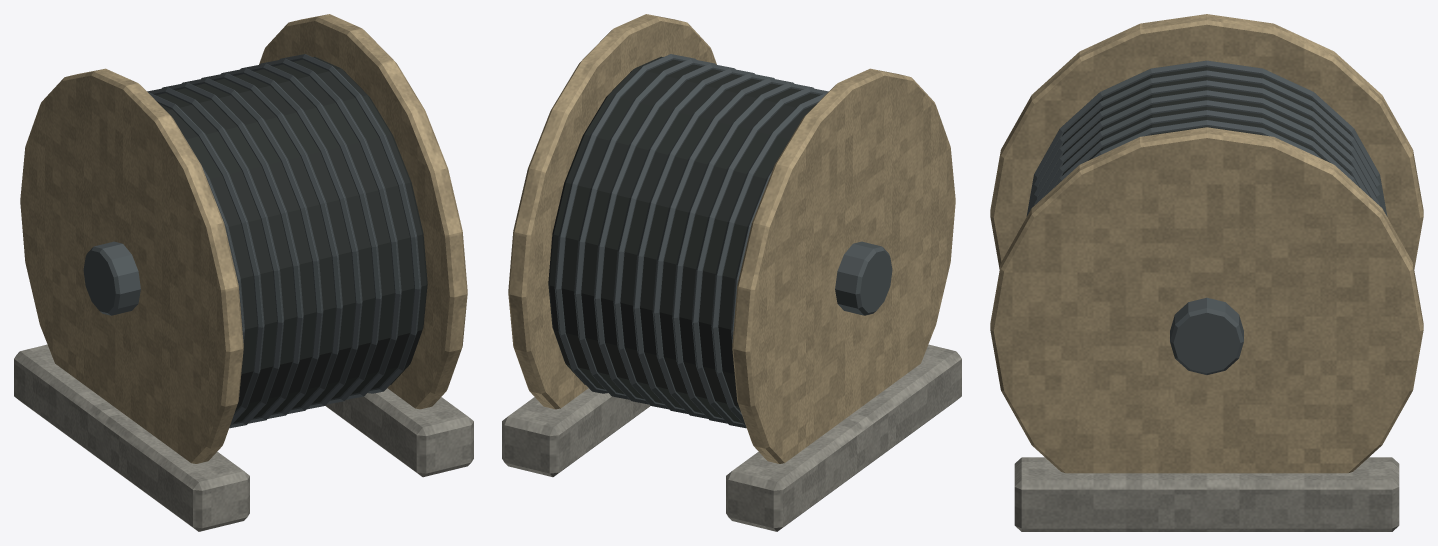
The picture shows the model from 3 angles, left to right: view 1: azimuth 30°, elevation 25°; view 2: azimuth 150°, elevation 25°; view 3: azimuth 270°, elevation 25°; orthographic projection. The views are drawn at different scales.
Parts seen in each view (by area): view 1: ST2-P05_Mesh; view 2: ST2-P05_Mesh; view 3: ST2-P05_Mesh.
Boxes of the visible parts, bbox=[...] form: ST2-P05_Mesh: bbox=[14, 14, 473, 531]; ST2-P05_Mesh: bbox=[502, 14, 961, 531]; ST2-P05_Mesh: bbox=[990, 14, 1423, 531].
Size of the model in its own units: 1.21 by 1.52 by 1.52.
